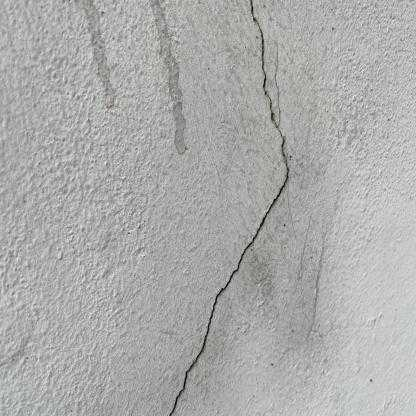crack: (169, 1, 290, 415), (276, 42, 278, 68)
